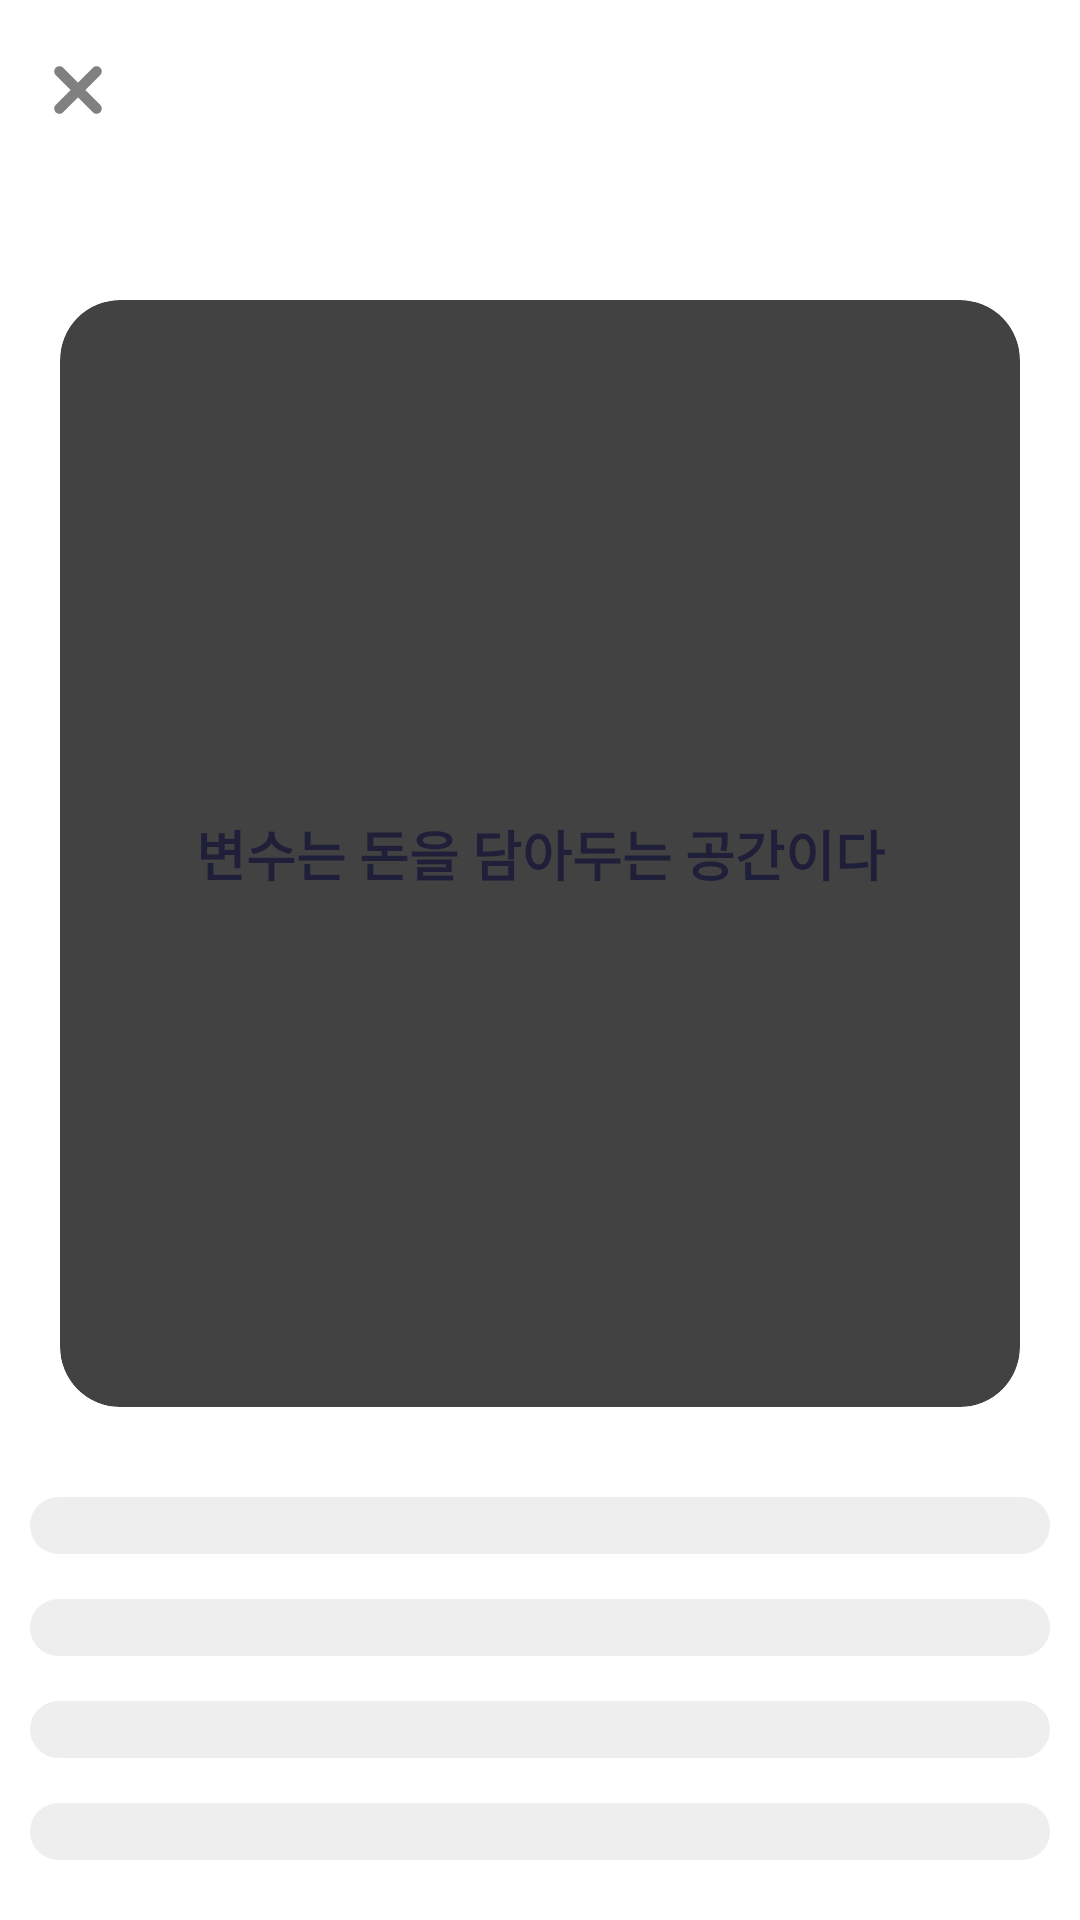

Locate icon controls on the screen. Image size 1080 x 1920, boxes as Rect(x1, y1, x2, y2).
close: Rect(54, 66, 102, 114)
